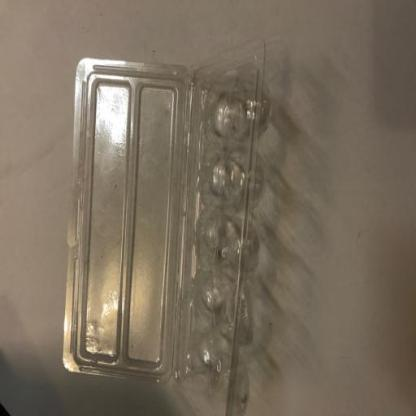trash: (58, 42, 274, 414)
